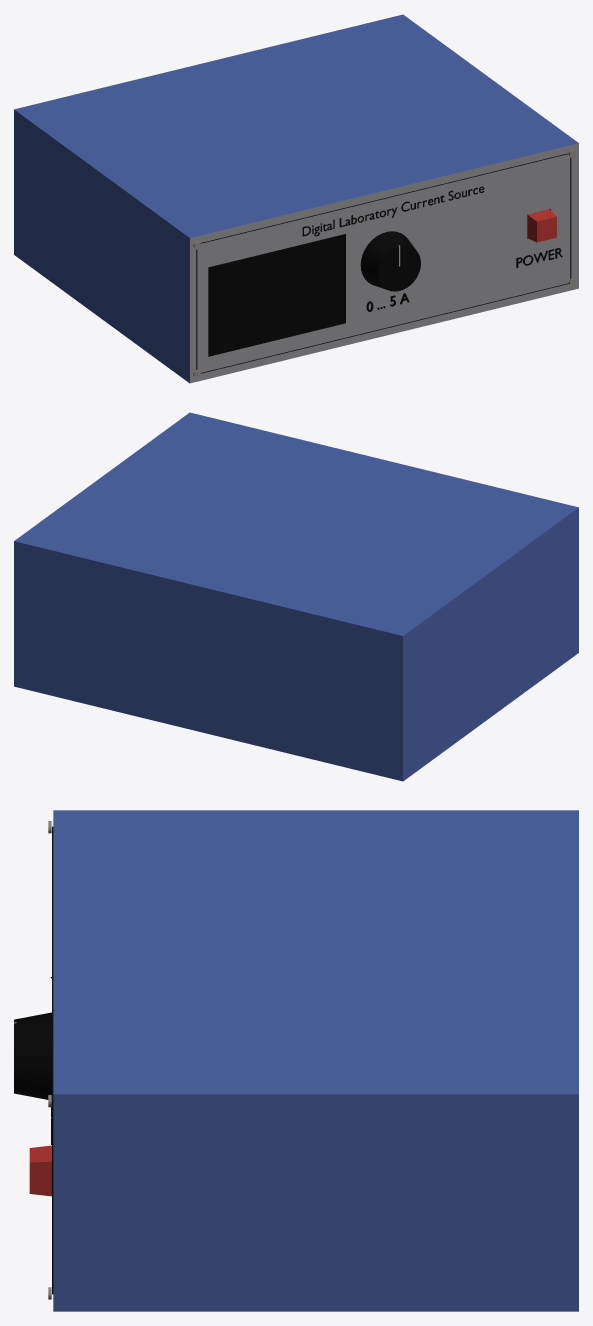
File: currentSource.glb
3 renders of one model, top to bottom at view 1: azimuth 30°, elevation 25°; view 2: azimuth 150°, elevation 25°; view 3: azimuth 270°, elevation 25°, orthographic. The views are drawn at different scales.
Visible parts, largest first — view 1: stand, contrast, power, stand.015; view 2: stand; view 3: stand, contrast, power.
Part boxes in pixels (bbox=[...]): stand: bbox=[14, 14, 578, 383]; contrast: bbox=[360, 231, 420, 291]; power: bbox=[527, 209, 556, 242]; stand.015: bbox=[302, 186, 484, 236]; stand: bbox=[14, 412, 578, 781]; stand: bbox=[48, 810, 578, 1311]; contrast: bbox=[14, 1012, 51, 1100]; power: bbox=[29, 1145, 51, 1196].
Bounding box in the file's own units: 191 × 68.22 × 161.
